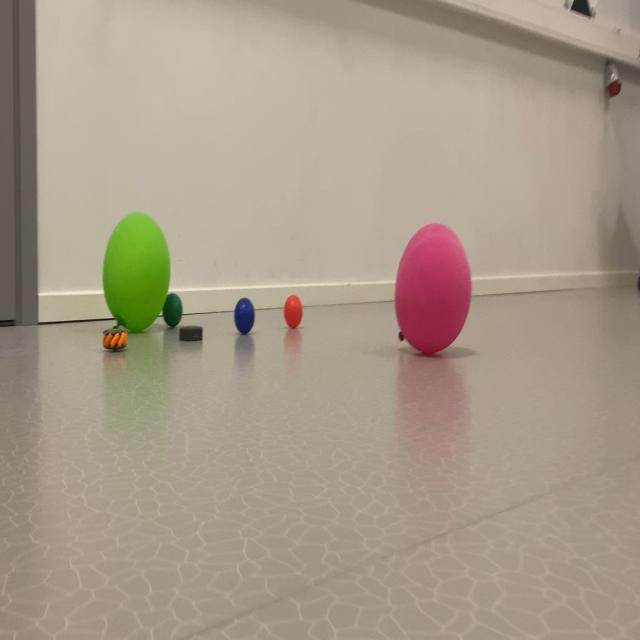6: (228, 273, 308, 372)
7: (270, 249, 311, 358)
green ball: (212, 264, 258, 354)
red ball: (158, 287, 186, 333)
